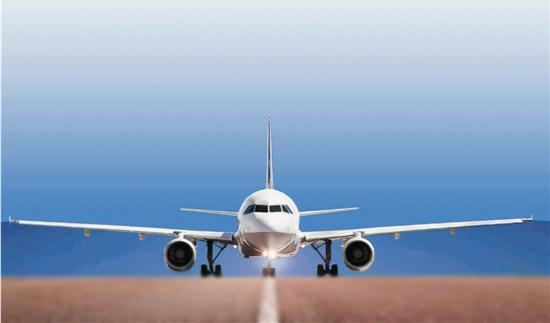airplane: (1, 113, 535, 277)
